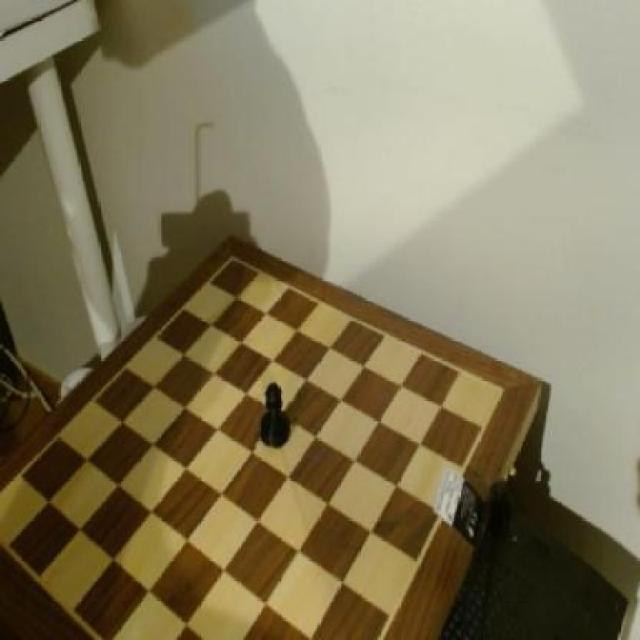black-knight: (257, 375, 298, 450)
